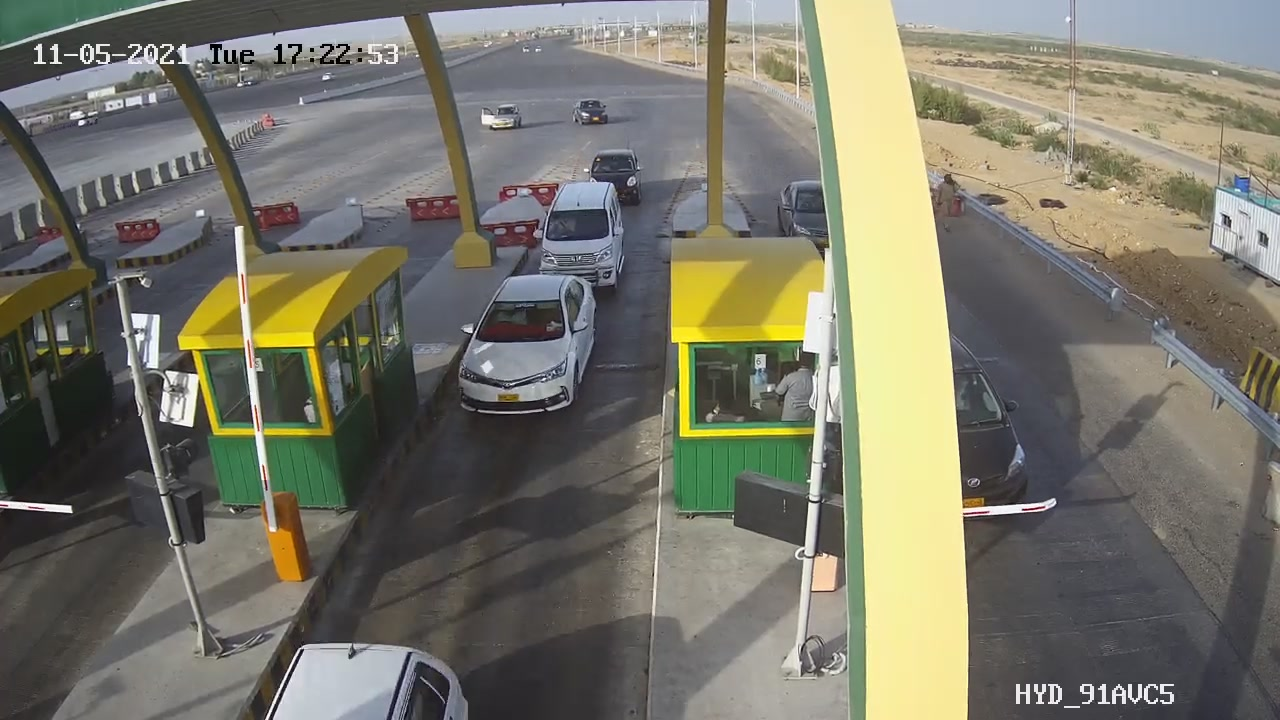F1: (438, 261, 617, 430)
